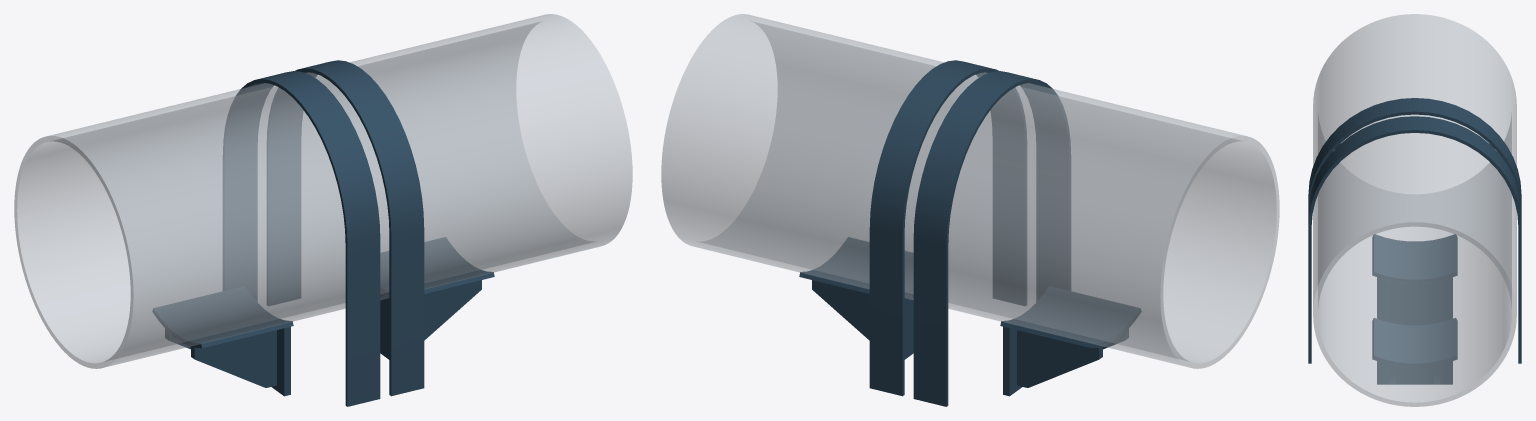
The model's file is TS-669.00.00-20-opora-dn377-ris2.glb.
The picture shows the model from 3 angles, left to right: view 1: azimuth 30°, elevation 25°; view 2: azimuth 150°, elevation 25°; view 3: azimuth 270°, elevation 25°; orthographic projection. The views are drawn at different scales.
Visible parts, largest first — view 1: truba, homut_10, homut_9, upor_8, upor_6, upor_4, upor_2, upor_5, upor_1; view 2: truba, homut_10, homut_9, upor_8, upor_7, upor_4, upor_3, upor_5, upor_1; view 3: truba, homut_9, homut_10, upor_8, upor_4, upor_5, upor_1.
Boxes of the visible parts, bbox=[...] form: truba: bbox=[14, 14, 632, 368]; homut_10: bbox=[223, 71, 380, 406]; homut_9: bbox=[267, 60, 424, 396]; upor_8: bbox=[152, 286, 293, 348]; upor_6: bbox=[191, 330, 276, 387]; upor_4: bbox=[380, 237, 494, 296]; upor_2: bbox=[424, 280, 481, 340]; upor_5: bbox=[272, 326, 290, 396]; upor_1: bbox=[380, 292, 389, 359]; truba: bbox=[661, 14, 1279, 368]; homut_10: bbox=[913, 71, 1070, 406]; homut_9: bbox=[869, 60, 1026, 396]; upor_8: bbox=[1000, 286, 1141, 348]; upor_7: bbox=[1017, 330, 1102, 387]; upor_4: bbox=[799, 237, 913, 296]; upor_3: bbox=[812, 280, 869, 340]; upor_5: bbox=[1003, 326, 1021, 396]; upor_1: bbox=[904, 292, 913, 359]; truba: bbox=[1313, 14, 1516, 406]; homut_9: bbox=[1308, 116, 1521, 363]; homut_10: bbox=[1308, 98, 1521, 211]; upor_8: bbox=[1372, 234, 1457, 283]; upor_4: bbox=[1372, 318, 1457, 367]; upor_5: bbox=[1377, 277, 1452, 325]; upor_1: bbox=[1377, 361, 1452, 384].
Bounding box in the file's own units: 911 × 500 × 394.
